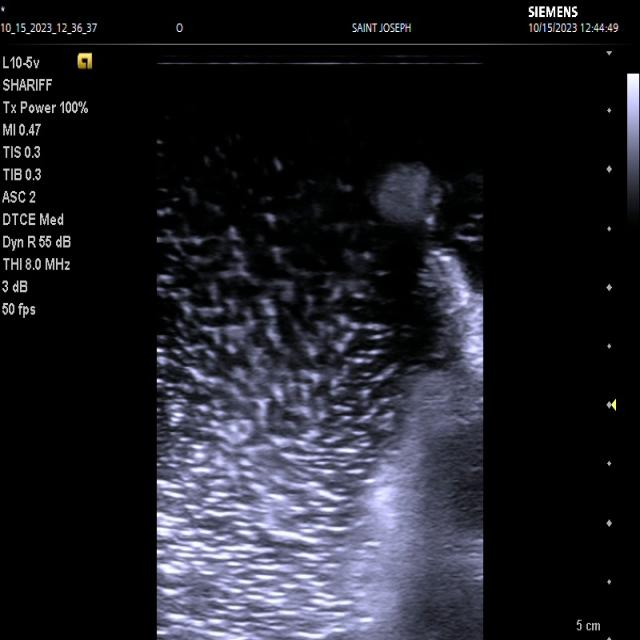tissue: (376, 251, 483, 640), (375, 173, 434, 224)
